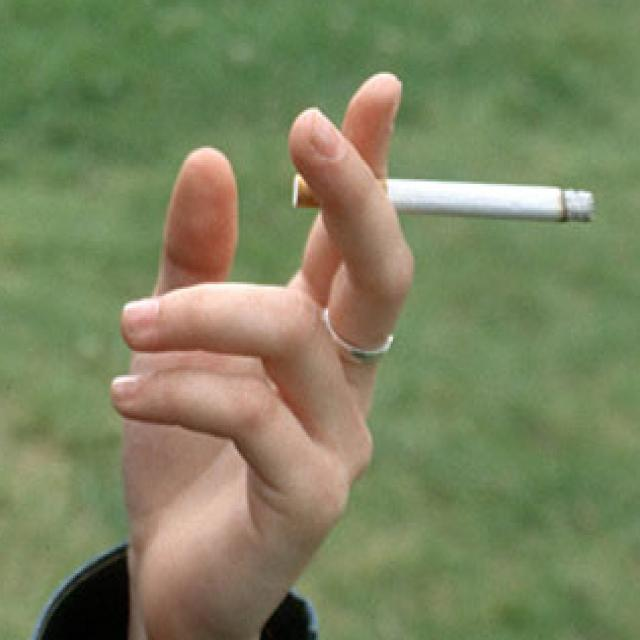smoking: (291, 173, 595, 224)
